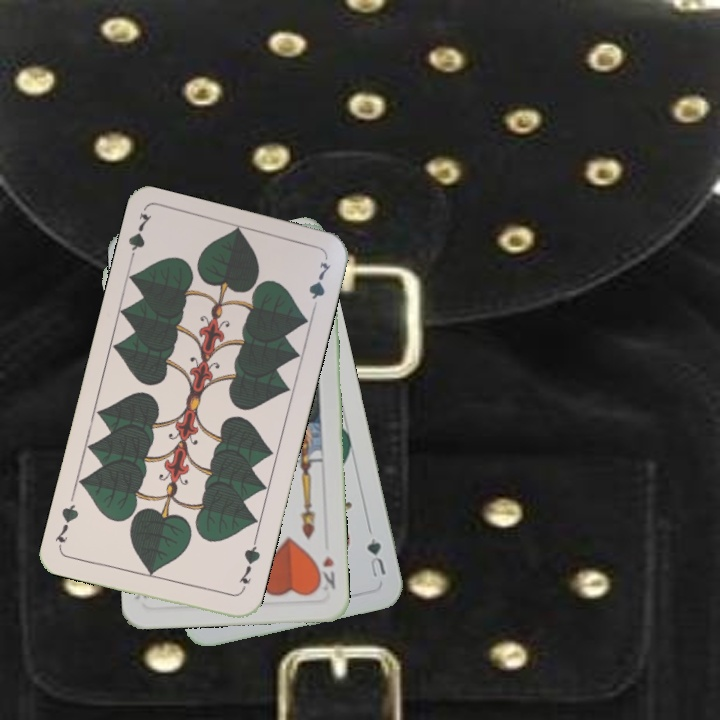G7: (124, 209, 155, 268), (235, 537, 263, 595)
GU: (362, 534, 389, 580)
HK: (313, 552, 338, 594)
